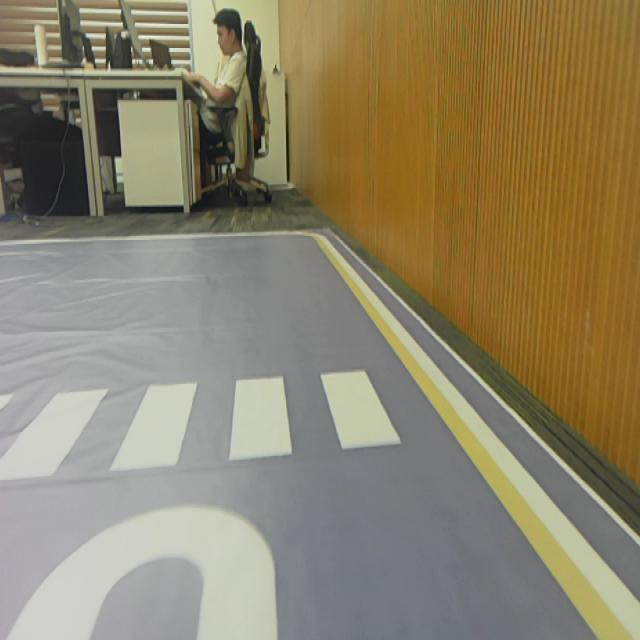right_lane: (314, 237, 631, 637)
